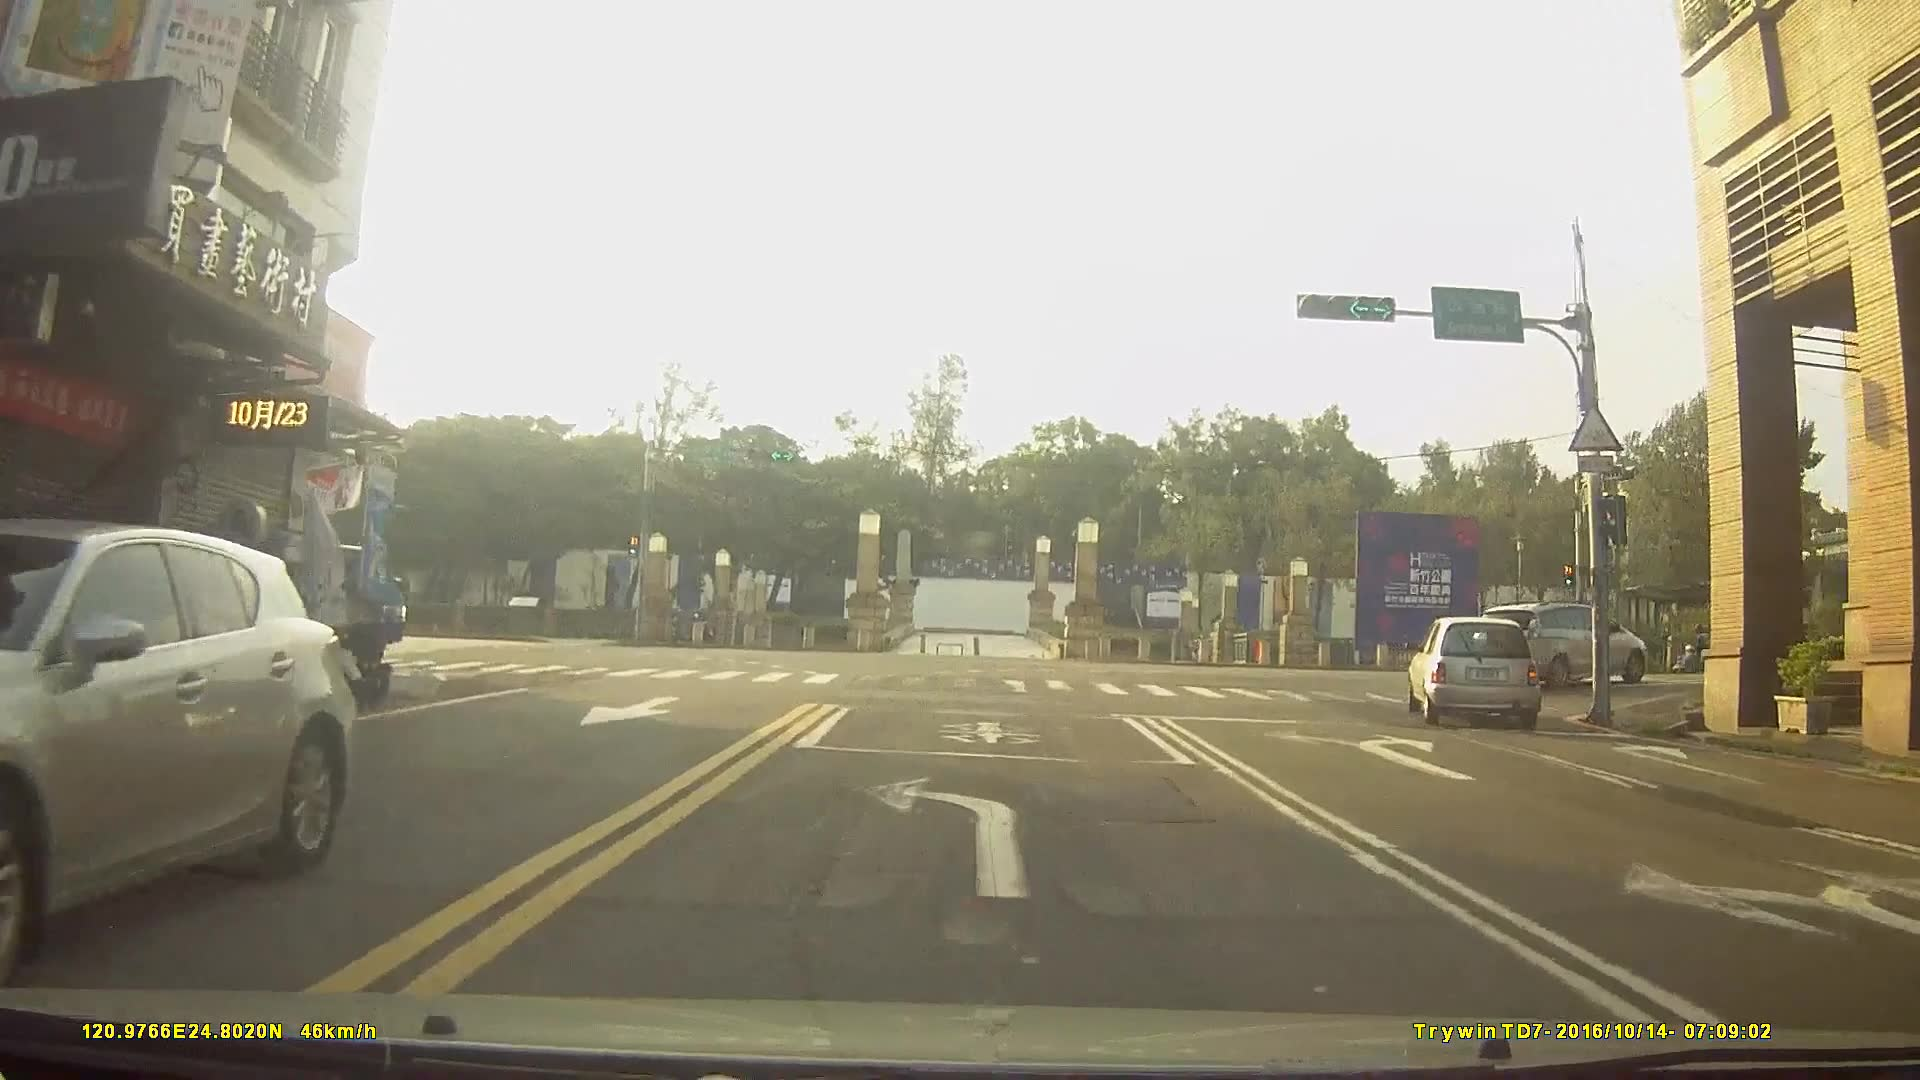vehicle: (0, 514, 356, 961), (1408, 615, 1544, 729), (1480, 601, 1648, 690)
